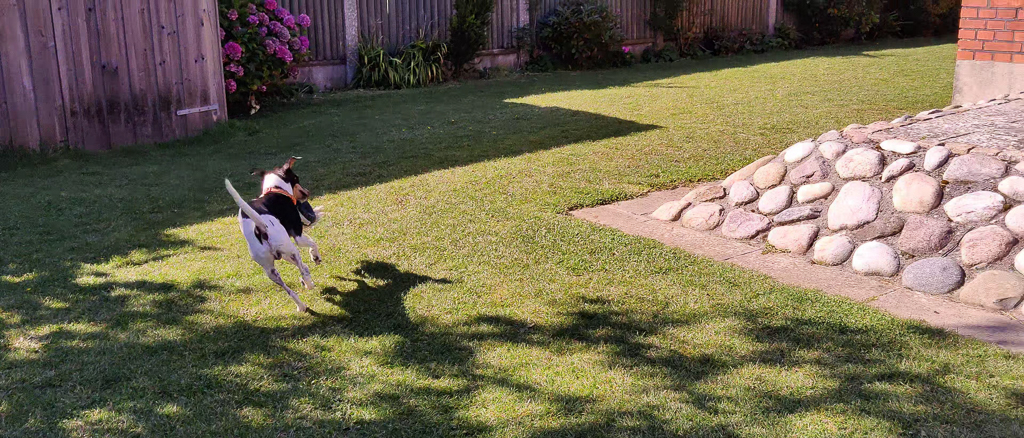Dog: (212, 146, 347, 327)
